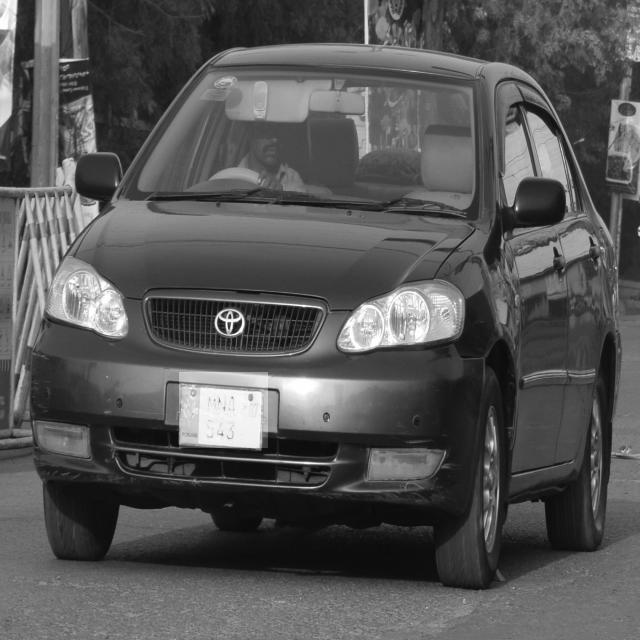number_plate: (179, 372, 268, 448)
